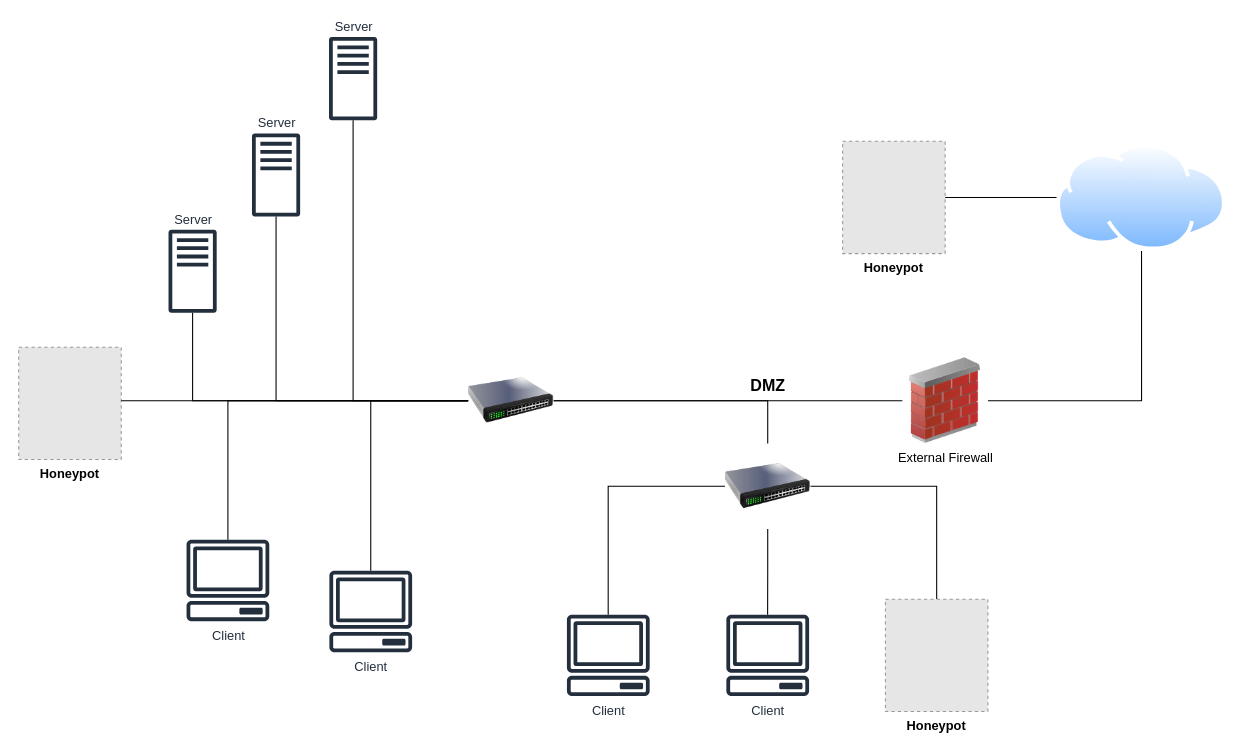
The diagram is 1245 pixels wide and 752 high, and some of its shapes have lost their labels. Grey dashed boxes stand in for pictures. Here are the shapes that lost their labels. From the top down, the box of each, then its label:
(1056, 143, 1226, 250): Internet
(468, 357, 553, 443): LAN Switch
(724, 443, 810, 529): Router
